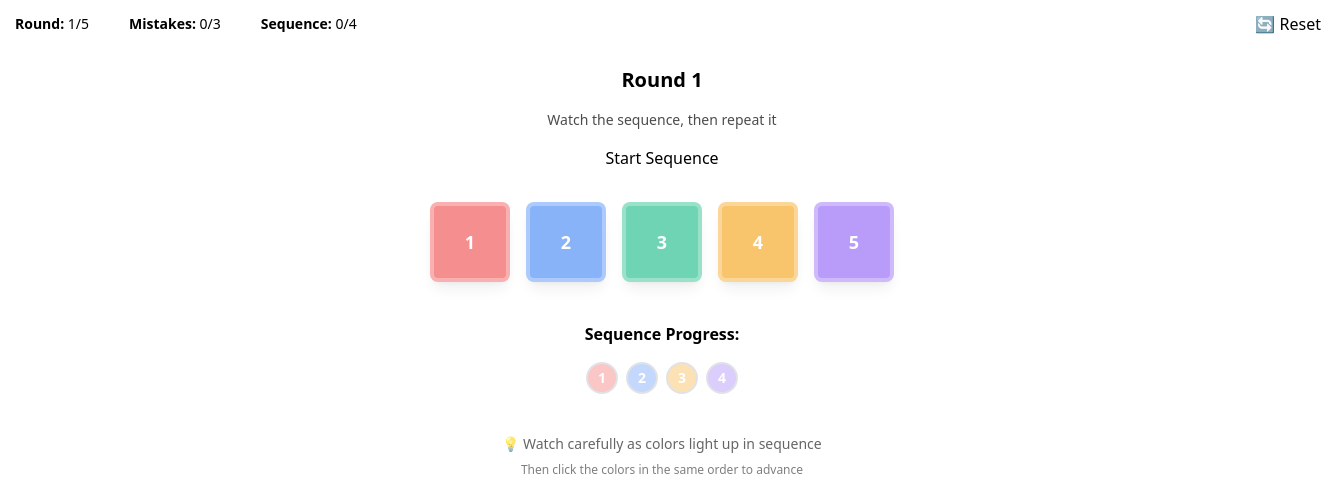
SequenceMatchGame › Sequence Display › should start sequence display when start button is clicked
Click the button "Start Sequence": (662, 158) [605, 146, 719, 170]
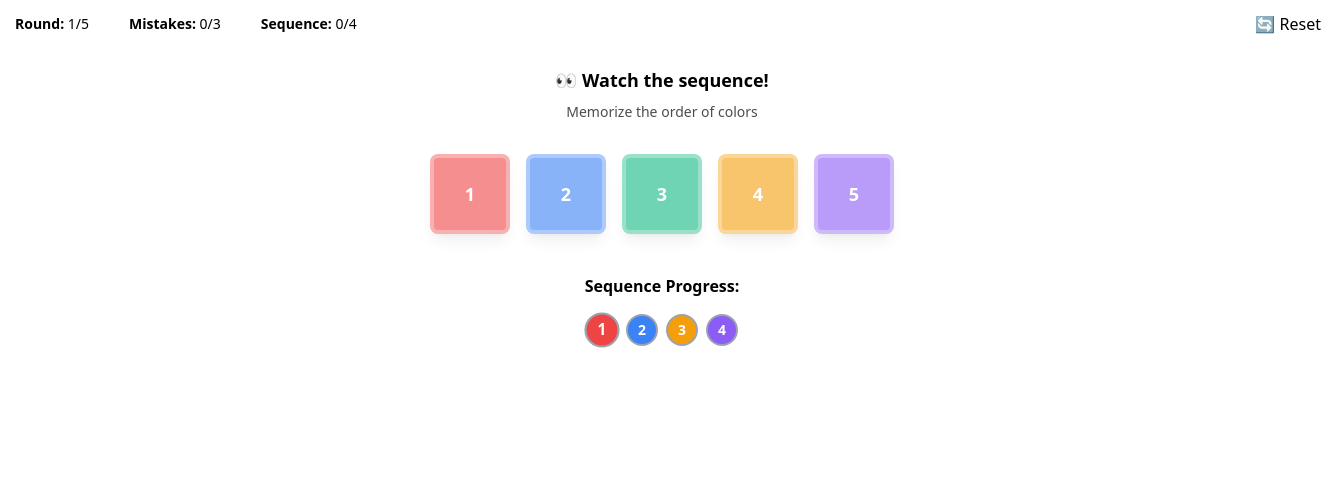
Expected: the text "👀 Watch the sequence!" is shown, [555, 68, 769, 92]
Expected: the text "Memorize the order of colors" is shown, [566, 102, 758, 121]
